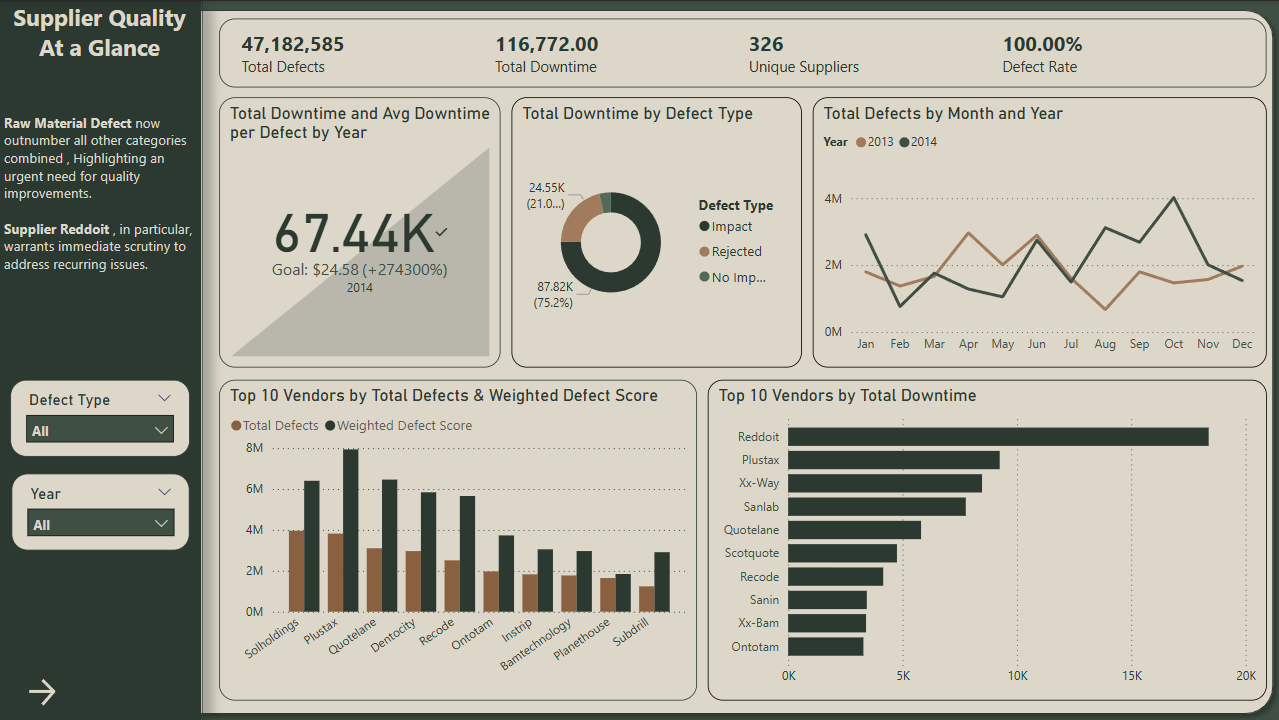

What the dashboard file says about the page in this screenshot:
{"tool":"powerbi","page":{"name":"Supplier Quality Overview","canvas":[1280,720],"ordinal":0},"visuals":[{"type":"shape","box":[10,0,1270.1,720.3],"z":0},{"type":"kpi","fields":{"TrendLine":["dCalender.Year"],"Indicator":["_measures.Total Downtime"],"Goal":["_measures.Avg Downtime per Defect"]},"box":[219.4,96,280.5,273],"z":1000},{"type":"lineChart","fields":{"Y":["_measures.Total Defects"],"Category":["dCalender.Month"],"Series":["dCalender.Year"]},"box":[811.1,95.8,452.8,269.9],"z":2000},{"type":"multiRowCard","fields":{"Values":["_measures.Total Defects","_measures.Total Downtime","_measures.Unique Suppliers","_measures.Defect Rate"]},"box":[218.9,17.4,1044.9,68.4],"z":4000},{"type":"lineClusteredColumnComboChart","title":"Top 10 Vendors by Total Defects & Weighted Defect Score","fields":{"Category":["dVendor.Vendor"],"Y":["_measures.Total Defects","_measures.Weighted Defect Score"]},"box":[218.9,378.2,476.4,319.7],"z":5000},{"type":"donutChart","fields":{"Category":["dDefect Type.Defect Type"],"Y":["_measures.Total Downtime"]},"box":[512.4,96,289.2,270.5],"z":6000},{"type":"shape","box":[0,0,203,720.3],"z":7000},{"type":"textbox","title":"Supplier Quality At a Glance","box":[0,0,200.3,99.5],"z":8000},{"type":"slicer","fields":{"Values":["dCalender.Year"]},"box":[12.4,471.5,177.9,77.1],"z":9000},{"type":"slicer","fields":{"Values":["dDefect Type.Defect Type"]},"box":[11.2,378.2,179.1,77.1],"z":10000},{"type":"actionButton","box":[21.1,668,155.5,42.3],"z":11000},{"type":"textbox","box":[0,107,200.3,252.5],"z":12000},{"type":"barChart","title":"Top 10 Vendors by Total Downtime","fields":{"Y":["_measures.Total Downtime"],"Category":["dVendor.Vendor"]},"box":[706.6,378.2,557.3,319.7],"z":13000}]}

Visuals, with their boxes in screenshot pixels (x1, y1, x2, y2), scaled from the page's 1280x720 canvas onto the 1279x720 screenshot:
shape: 10 0 1278 719
kpi - dCalender.Year x _measures.Total Downtime: 219 96 500 369
lineChart - _measures.Total Defects x dCalender.Month: 810 96 1263 366
multiRowCard - _measures.Total Defects x _measures.Total Downtime: 219 17 1263 86
"Top 10 Vendors by Total Defects & Weighted Defect Score" lineClusteredColumnComboChart: 219 378 695 698
donutChart - dDefect Type.Defect Type x _measures.Total Downtime: 512 96 801 366
shape: 0 0 203 719
"Supplier Quality At a Glance" textbox: 0 0 200 100
slicer - dCalender.Year: 12 472 190 549
slicer - dDefect Type.Defect Type: 11 378 190 455
actionButton: 21 668 176 710
textbox: 0 107 200 360
"Top 10 Vendors by Total Downtime" barChart: 706 378 1263 698
